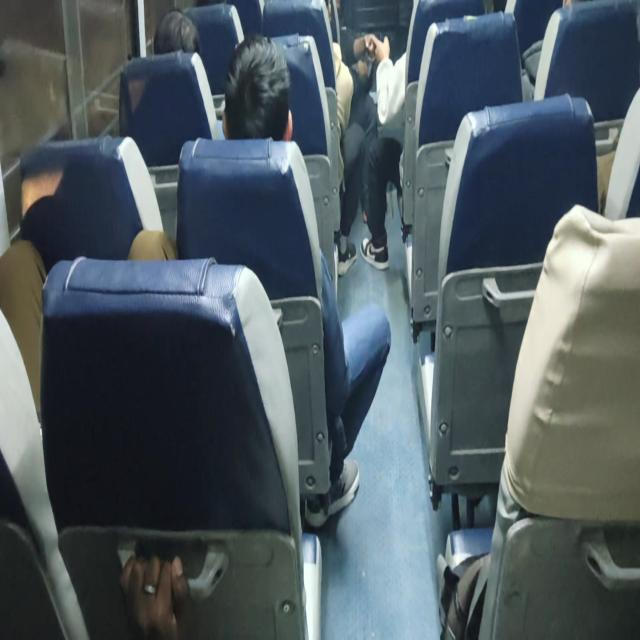person: (128, 33, 391, 528), (0, 136, 178, 422), (351, 32, 406, 271), (220, 34, 294, 142), (118, 544, 191, 638), (153, 8, 201, 55)
